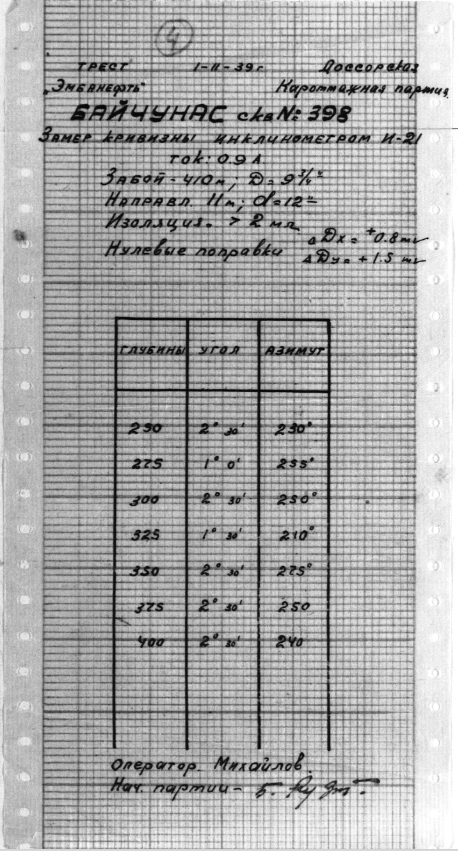Bordered: (109, 314, 332, 750)
